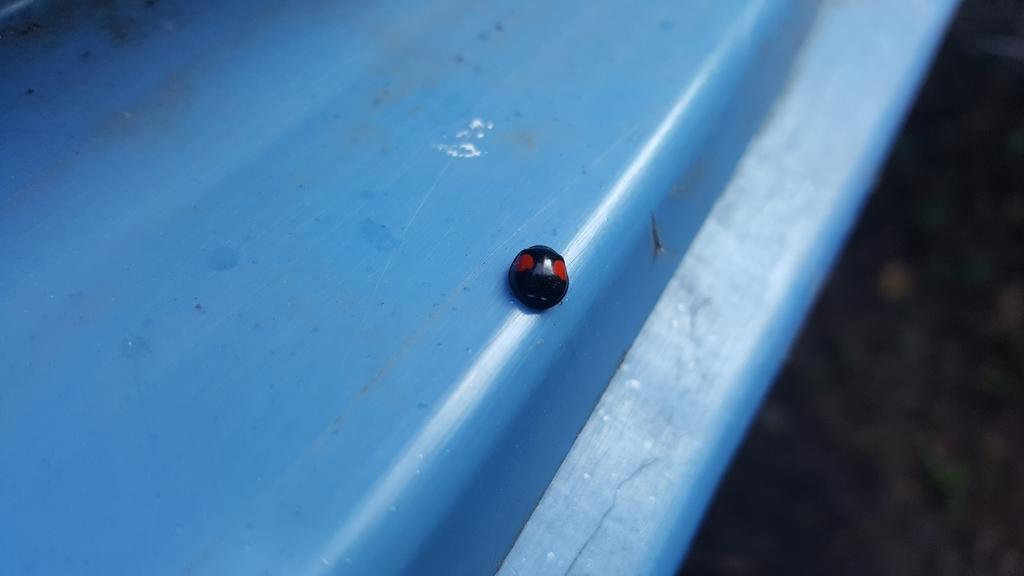ladybug: (508, 245, 572, 312)
